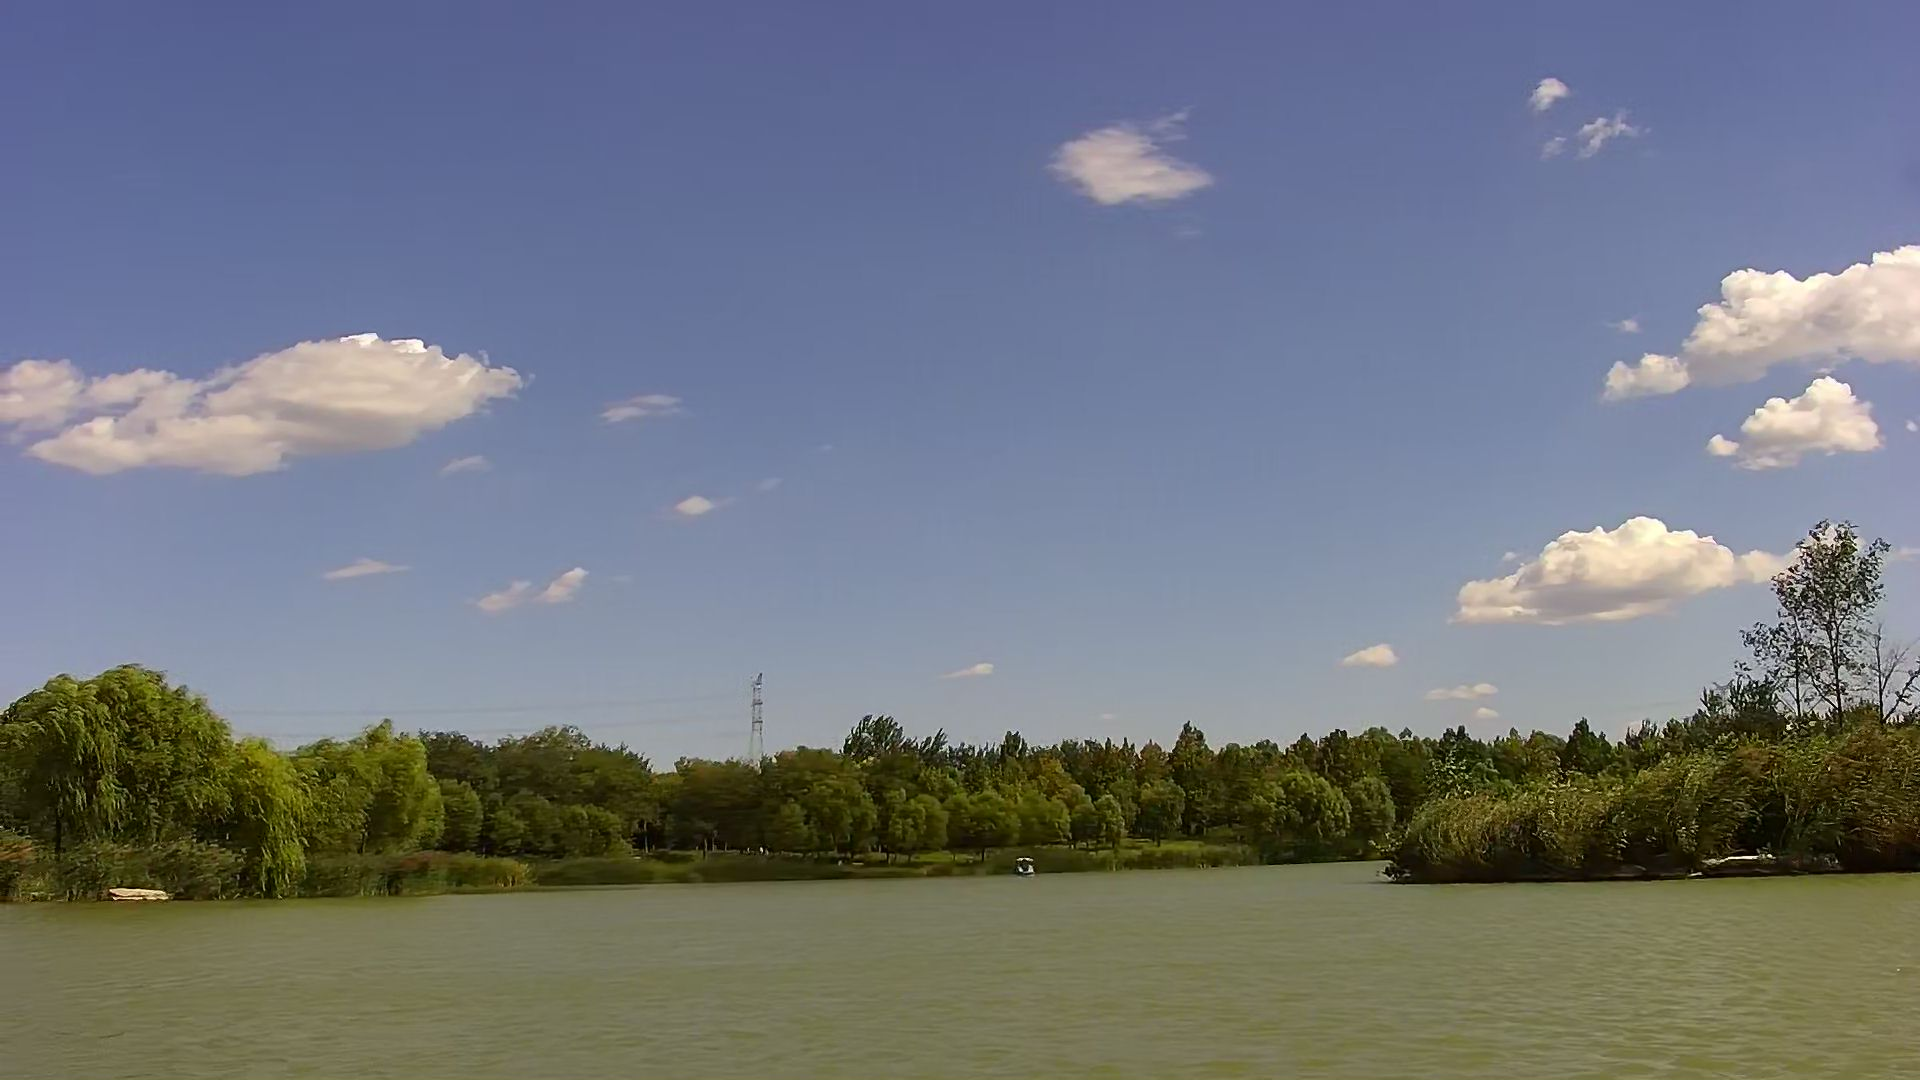boat: (1014, 855, 1040, 880)
